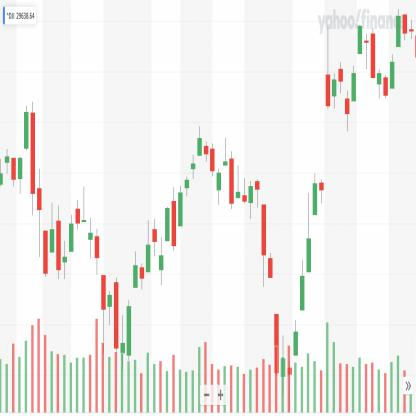Bearish 3 Black Crows: (30, 97, 49, 280)
Bullish 3 White Soldiers: (299, 168, 318, 316)
Bullish Abandoned Baby: (152, 202, 170, 288)
